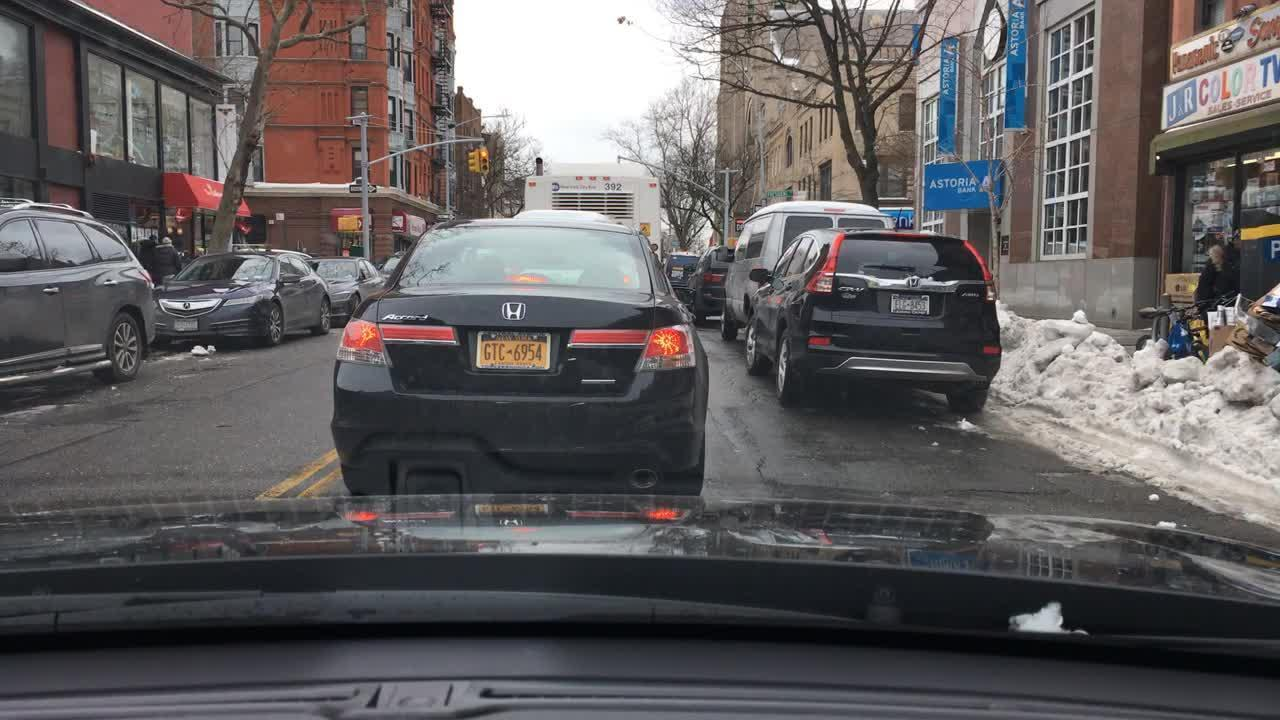Honda: (493, 289, 534, 330), (903, 272, 923, 293)
